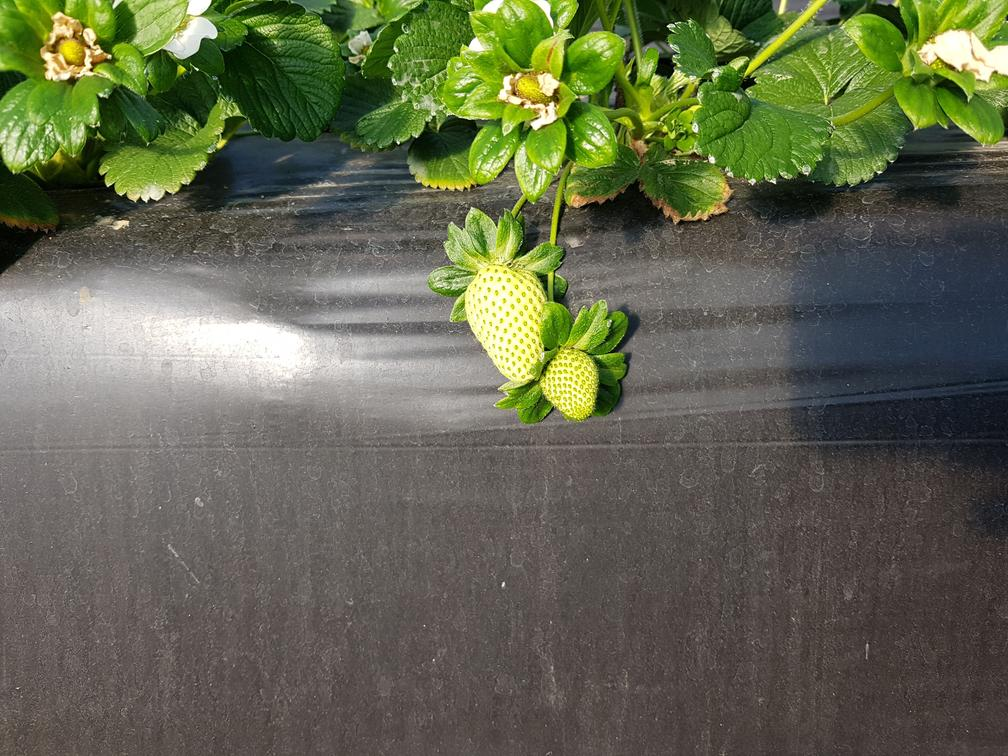Unripe: (457, 259, 541, 381), (542, 347, 610, 427)
